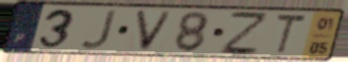3: (36, 7, 82, 51)
8: (171, 10, 212, 55)
J: (78, 9, 120, 51)
T: (273, 12, 309, 57)
V: (134, 9, 176, 53)
Z: (218, 10, 269, 56)
